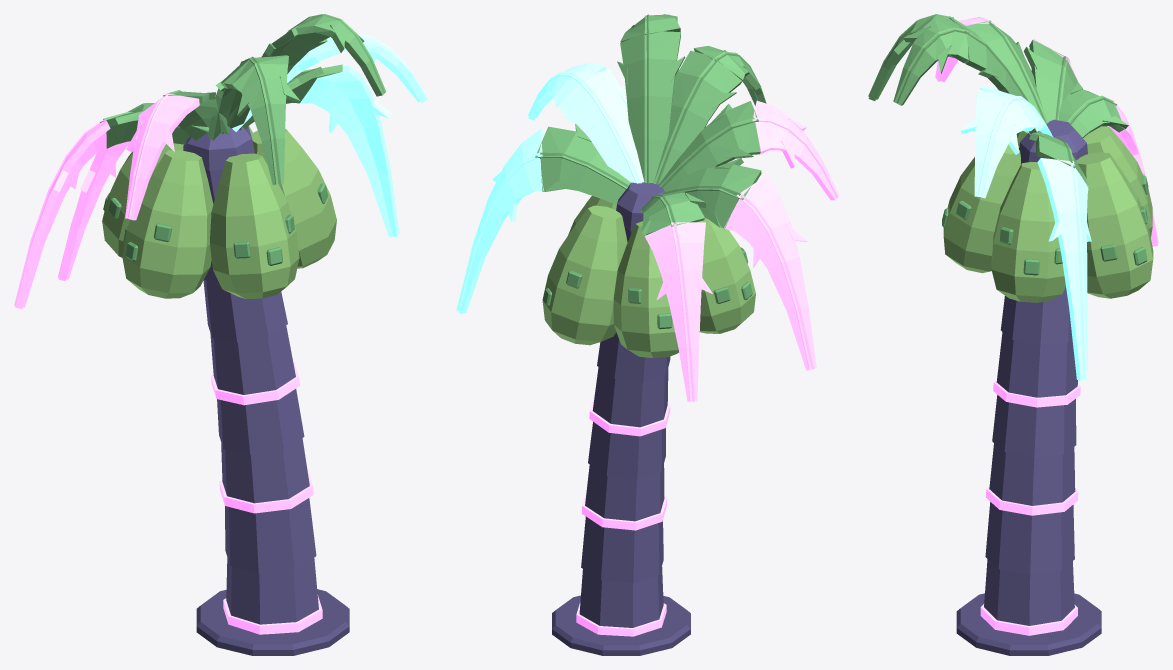
The model's file is NeonPalm.fbx.
The picture shows the model from 3 angles, left to right: view 1: azimuth 30°, elevation 25°; view 2: azimuth 150°, elevation 25°; view 3: azimuth 270°, elevation 25°; orthographic projection. The views are drawn at different scales.
Visible parts, largest first — view 1: NeonPalm.Trunk, NeonPalm.Coconuts, NeonPalm.Magenta, NeonPalm.FrondsGreen, NeonPalm.FrondsCyan, NeonPalm.Base, NeonPalm.CoconutStuds; view 2: NeonPalm.FrondsGreen, NeonPalm.Trunk, NeonPalm.Magenta, NeonPalm.Coconuts, NeonPalm.FrondsCyan, NeonPalm.Base, NeonPalm.CoconutStuds; view 3: NeonPalm.Trunk, NeonPalm.Coconuts, NeonPalm.FrondsGreen, NeonPalm.FrondsCyan, NeonPalm.Magenta, NeonPalm.Base, NeonPalm.CoconutStuds.
Part boxes in pixels (<box>): NeonPalm.Trunk: <box>183,127,318,624</box>; NeonPalm.Coconuts: <box>102,126,336,299</box>; NeonPalm.Magenta: <box>14,93,322,634</box>; NeonPalm.FrondsGreen: <box>100,14,386,184</box>; NeonPalm.FrondsCyan: <box>232,33,427,237</box>; NeonPalm.Base: <box>196,589,349,655</box>; NeonPalm.CoconutStuds: <box>103,183,328,265</box>; NeonPalm.FrondsGreen: <box>535,14,766,236</box>; NeonPalm.Trunk: <box>579,182,670,627</box>; NeonPalm.Magenta: <box>576,100,839,636</box>; NeonPalm.Coconuts: <box>542,196,755,357</box>; NeonPalm.FrondsCyan: <box>456,63,644,314</box>; NeonPalm.Base: <box>552,595,690,655</box>; NeonPalm.CoconutStuds: <box>543,247,752,329</box>; NeonPalm.Trunk: <box>984,119,1087,625</box>; NeonPalm.Coconuts: <box>943,126,1153,302</box>; NeonPalm.FrondsGreen: <box>868,14,1128,187</box>; NeonPalm.FrondsCyan: <box>961,85,1091,380</box>; NeonPalm.Magenta: <box>935,17,1158,635</box>; NeonPalm.Base: <box>956,593,1101,655</box>; NeonPalm.CoconutStuds: <box>942,175,1148,275</box>.
Size of the model in its own units: 7.39 by 11.52 by 5.03.
